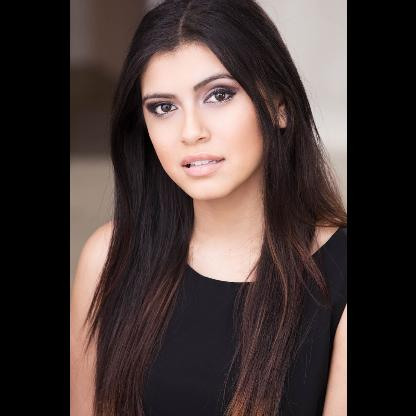Female: (140, 41, 288, 199)
